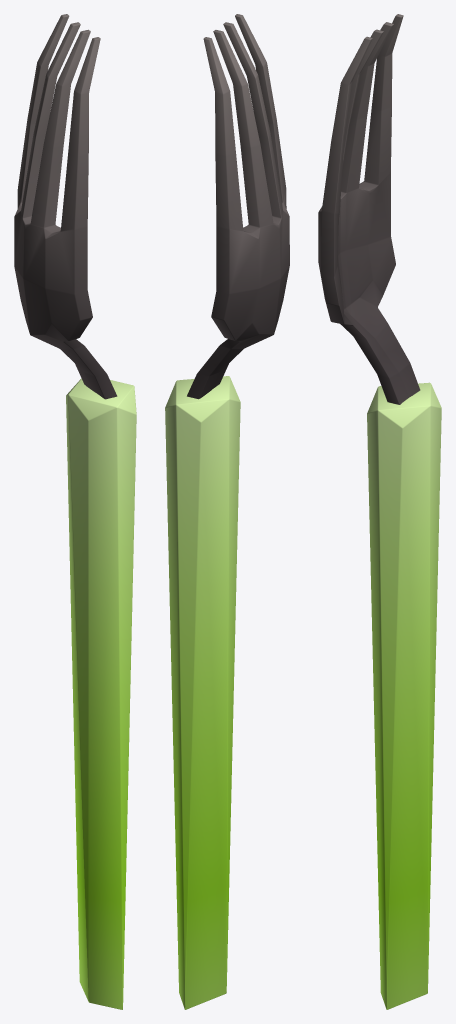
File: Fork.fbx
The picture shows the model from 3 angles, left to right: view 1: azimuth 30°, elevation 25°; view 2: azimuth 150°, elevation 25°; view 3: azimuth 330°, elevation 25°; orthographic projection.
Visible parts, largest first — view 1: Fork; view 2: Fork; view 3: Fork.
Part boxes in pixels (x1,y1,x2,y2): Fork: [14, 14, 136, 1009]; Fork: [165, 14, 289, 1009]; Fork: [318, 14, 441, 1009].
Bounding box in the file's own units: 63.43 × 548 × 58.99.
